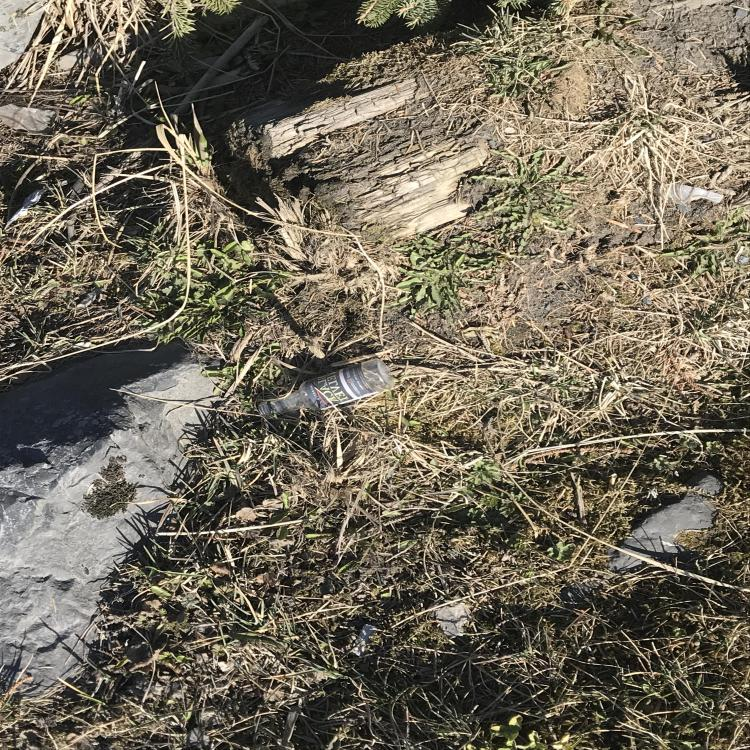Glass bottle: (258, 358, 394, 418)
Other plastic wrapper: (670, 184, 725, 204)
